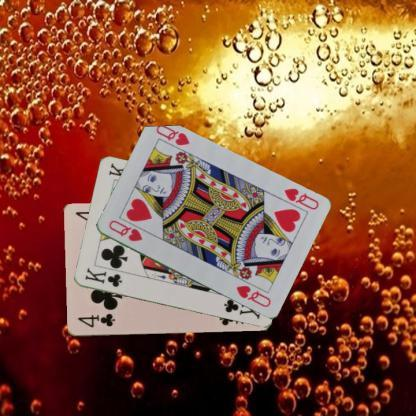4c: (75, 312, 116, 330)
Kc: (82, 265, 123, 289)
Qh: (280, 186, 320, 212), (106, 217, 144, 243)
